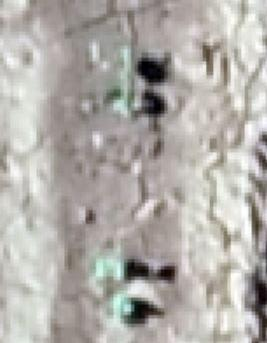cotton: (90, 255, 123, 279), (113, 93, 139, 114), (116, 294, 134, 319), (117, 48, 134, 67)
